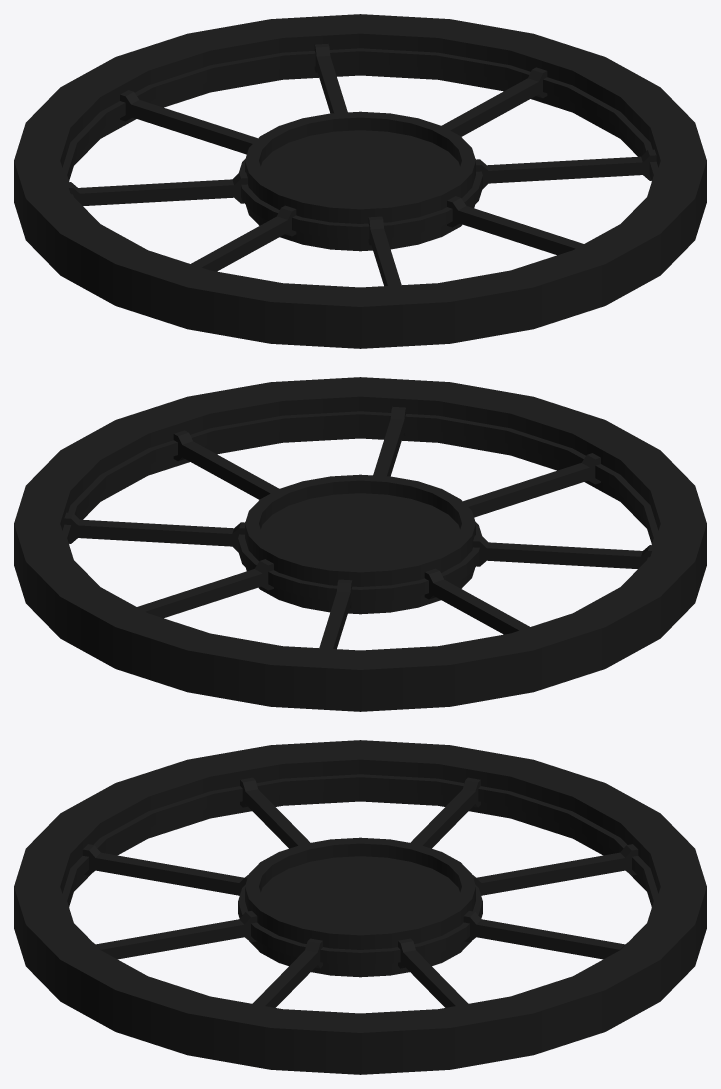
The model's file is aquarius_engine_mount_s1p5_1.obj.
3 views of the same model, one above another, from view 1: azimuth 30°, elevation 25°; view 2: azimuth 150°, elevation 25°; view 3: azimuth 270°, elevation 25° (orthographic).
Visible parts, largest first — view 1: aquarius_engine_mount_s1p5_1; view 2: aquarius_engine_mount_s1p5_1; view 3: aquarius_engine_mount_s1p5_1.
Boxes of the visible parts, x1,y1,x2,y2 form: aquarius_engine_mount_s1p5_1: (14,14,706,348); aquarius_engine_mount_s1p5_1: (14,377,706,711); aquarius_engine_mount_s1p5_1: (14,740,706,1074).
Size of the model in its own units: 1.88 by 0.125 by 1.88.
